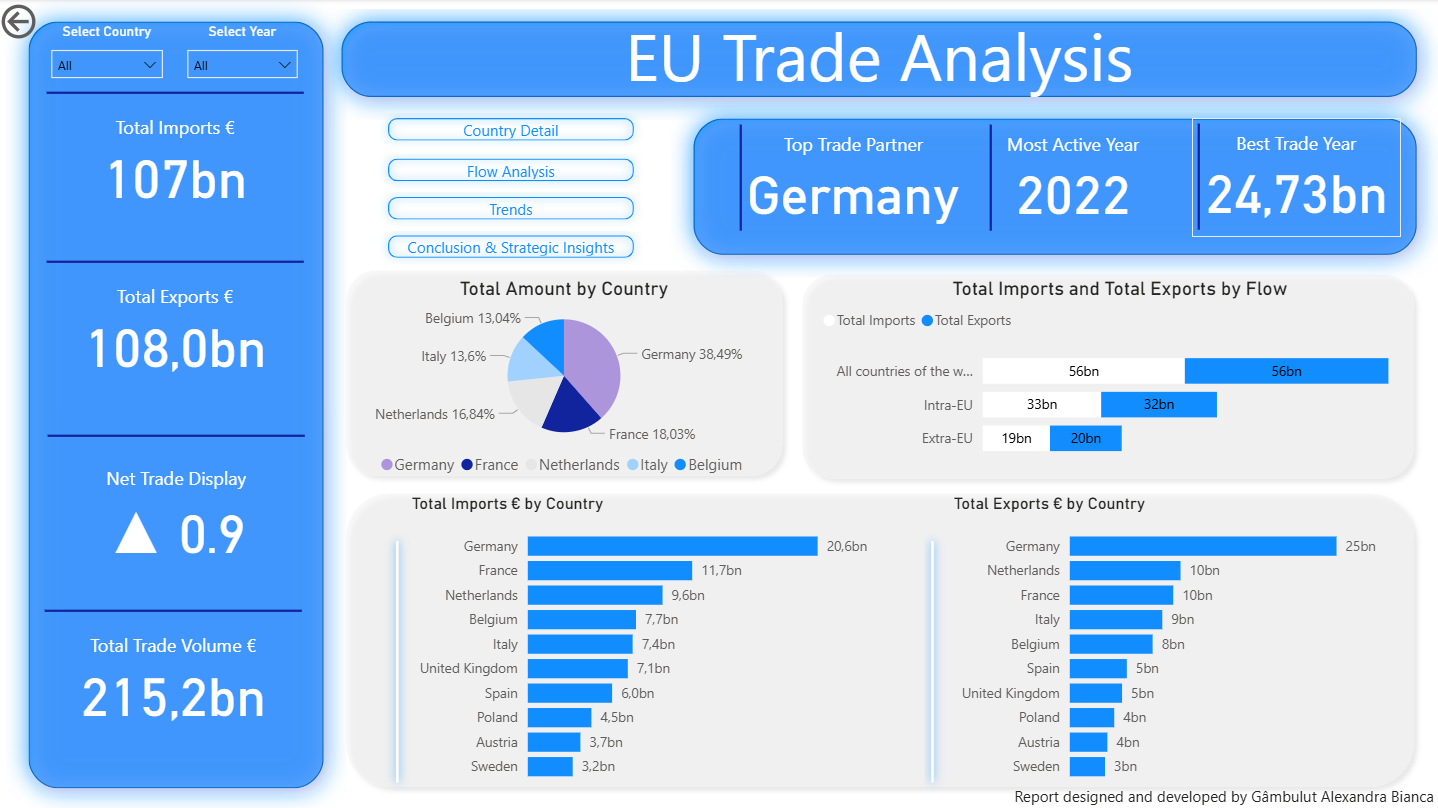

The dashboard page shown, as its layout file describes it:
{"tool":"powerbi","page":{"name":"Overview","canvas":[1280,720],"ordinal":0},"visuals":[{"type":"shape","box":[598.9,86.1,681.1,160.8],"z":0},{"type":"shape","box":[706,235.3,560.2,199.3],"z":1000},{"type":"shape","box":[301.3,429.2,964.7,278.5],"z":2000},{"type":"shape","box":[286.6,0,993.4,106.8],"z":3000},{"type":"shape","box":[9,0,301.5,719.9],"z":4000},{"type":"textbox","box":[300.6,4.4,965.6,155.2],"z":5000},{"type":"barChart","fields":{"Category":["Fact_ImportsExports.Flow"],"Y":["Fact_ImportsExports.Total Imports","Fact_ImportsExports.Total Exports"]},"box":[728.1,246.4,537.1,172.6],"z":6000},{"type":"cardVisual","title":"YoY Imports % (vs previous year)","fields":{"Data":["Fact_ImportsExports.Total Imports €"]},"box":[39.9,76.9,238.6,133.8],"z":7000},{"type":"cardVisual","fields":{"Data":["Fact_ImportsExports.Total Exports €"]},"box":[39.9,226.6,238.6,133.8],"z":8000},{"type":"cardVisual","fields":{"Data":["Fact_ImportsExports.Total Trade Volume €"]},"box":[38.5,536.6,238.6,134.9],"z":9000},{"type":"slicer","title":"Select Country","fields":{"Values":["DimCountry.Country"]},"box":[38.9,22,118.8,63.9],"z":10000},{"type":"actionButton","box":[0,0,100,40],"z":11000},{"type":"slicer","title":"Select Year","fields":{"Values":["DimYear.DimYear"]},"box":[159.8,22,117.8,63.9],"z":12000},{"type":"pageNavigator","box":[339.3,97.5,234.2,138],"z":13000},{"type":"cardVisual","fields":{"Data":["Fact_ImportsExports.Net Trade Display"]},"box":[40.5,381.1,238,155.7],"z":14000},{"type":"cardVisual","title":"YoY Imports % (vs previous year)","fields":{"Data":["Fact_ImportsExports.Top Trade Partner"]},"box":[654,106.8,212.7,104.8],"z":15000},{"type":"cardVisual","title":"YoY Imports % (vs previous year)","fields":{"Data":["Fact_ImportsExports.Best Trade Year"]},"box":[1060.3,105.8,185.7,104.8],"z":16000},{"type":"cardVisual","title":"YoY Imports % (vs previous year)","fields":{"Data":["Fact_ImportsExports.Most Active Year"]},"box":[875.6,106.8,158.8,104.8],"z":17000},{"type":"shape","box":[301.2,231.3,404.7,200.3],"z":18000},{"type":"pieChart","title":"Total Amount by Country","fields":{"Category":["Fact_ImportsExports.Country"],"Y":["Fact_ImportsExports.Total Amount €"]},"box":[300.9,246.4,406.1,185.5],"z":19000},{"type":"barChart","fields":{"Category":["Fact_ImportsExports.Country"],"Y":["Fact_ImportsExports.Total Exports €"]},"box":[844.4,439,398.9,264.3],"z":20000},{"type":"barChart","fields":{"Category":["Fact_ImportsExports.Country"],"Y":["Fact_ImportsExports.Total Imports €"]},"box":[363.5,439,421,264.3],"z":21000},{"type":"shape","box":[817.4,472.4,25.7,230.1],"z":22000},{"type":"shape","box":[339,472.4,34.3,230.1],"z":23000},{"type":"textbox","box":[843.2,693.8,436.8,26.6],"z":24000}]}

Visuals, with their boxes in screenshot pixels (x1, y1, x2, y2), scaled from the page's 1280x720 canvas onto the 1438x808 screenshot:
shape: x1=673, y1=97, x2=1437, y2=277
shape: x1=793, y1=264, x2=1422, y2=488
shape: x1=338, y1=482, x2=1422, y2=794
shape: x1=322, y1=0, x2=1437, y2=120
shape: x1=10, y1=0, x2=349, y2=807
textbox: x1=338, y1=5, x2=1422, y2=179
barChart - Fact_ImportsExports.Flow x Fact_ImportsExports.Total Imports: x1=818, y1=277, x2=1421, y2=470
"YoY Imports % (vs previous year)" cardVisual: x1=45, y1=86, x2=313, y2=236
cardVisual - Fact_ImportsExports.Total Exports €: x1=45, y1=254, x2=313, y2=404
cardVisual - Fact_ImportsExports.Total Trade Volume €: x1=43, y1=602, x2=311, y2=754
"Select Country" slicer: x1=44, y1=25, x2=177, y2=96
actionButton: x1=0, y1=0, x2=112, y2=45
"Select Year" slicer: x1=180, y1=25, x2=312, y2=96
pageNavigator: x1=381, y1=109, x2=644, y2=264
cardVisual - Fact_ImportsExports.Net Trade Display: x1=45, y1=428, x2=313, y2=602
"YoY Imports % (vs previous year)" cardVisual: x1=735, y1=120, x2=974, y2=237
"YoY Imports % (vs previous year)" cardVisual: x1=1191, y1=119, x2=1400, y2=236
"YoY Imports % (vs previous year)" cardVisual: x1=984, y1=120, x2=1162, y2=237
shape: x1=338, y1=260, x2=793, y2=484
"Total Amount by Country" pieChart: x1=338, y1=277, x2=794, y2=485
barChart - Fact_ImportsExports.Country x Fact_ImportsExports.Total Exports €: x1=949, y1=493, x2=1397, y2=789
barChart - Fact_ImportsExports.Country x Fact_ImportsExports.Total Imports €: x1=408, y1=493, x2=881, y2=789
shape: x1=918, y1=530, x2=947, y2=788
shape: x1=381, y1=530, x2=419, y2=788
textbox: x1=947, y1=779, x2=1437, y2=807
